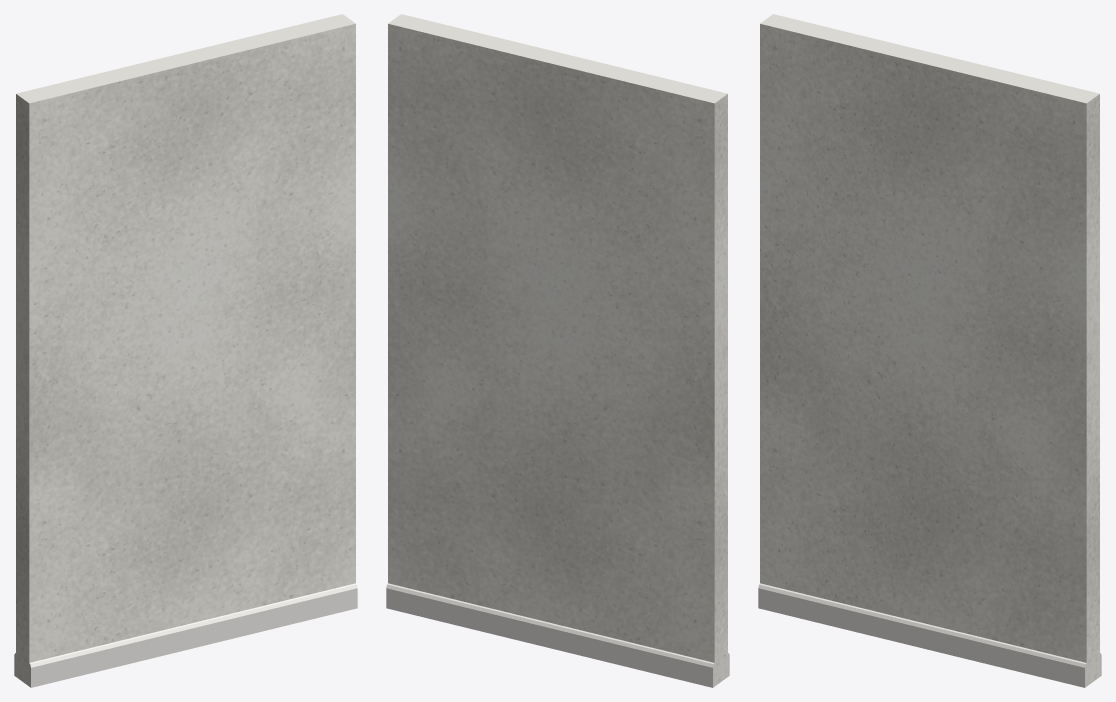
The model's file is interior_wall_end_plain.glb.
3 views of the same model, side by side, from view 1: azimuth 30°, elevation 25°; view 2: azimuth 150°, elevation 25°; view 3: azimuth 330°, elevation 25° (orthographic).
Visible parts, largest first — view 1: interior_wall_end_plain_plaster, interior_wall_end_plain_trim; view 2: interior_wall_end_plain_plaster, interior_wall_end_plain_trim; view 3: interior_wall_end_plain_plaster, interior_wall_end_plain_trim.
Boxes of the visible parts, <box> form: interior_wall_end_plain_plaster: <box>16,14,355,686</box>; interior_wall_end_plain_trim: <box>14,583,357,687</box>; interior_wall_end_plain_plaster: <box>388,14,727,686</box>; interior_wall_end_plain_trim: <box>386,583,729,687</box>; interior_wall_end_plain_plaster: <box>760,14,1099,686</box>; interior_wall_end_plain_trim: <box>758,583,1101,687</box>.
Bounding box in the file's own units: 1.7 × 2.9 × 0.152.
Materials: 2 (1 with a texture image).
